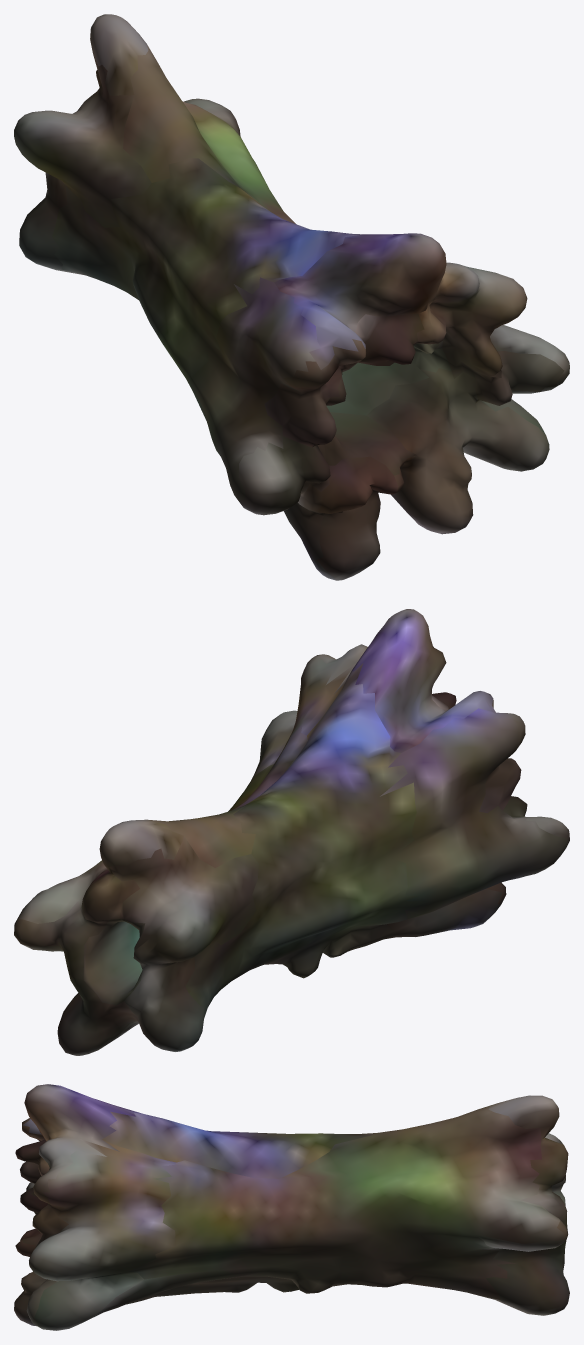
File: s05_tronco_caido.glb
3 renders of one model, top to bottom at view 1: azimuth 30°, elevation 25°; view 2: azimuth 150°, elevation 25°; view 3: azimuth 270°, elevation 25°, orthographic. The views are drawn at different scales.
Parts seen in each view (by area): view 1: s05_tronco_caido; view 2: s05_tronco_caido; view 3: s05_tronco_caido.
Part boxes in pixels (x1,y1,x2,y2): s05_tronco_caido: (14,14,569,580); s05_tronco_caido: (14,609,569,1055); s05_tronco_caido: (14,1084,569,1330).
Size of the model in its own units: 0.6611 by 0.6347 by 1.25.
1 material, 1 textured.
